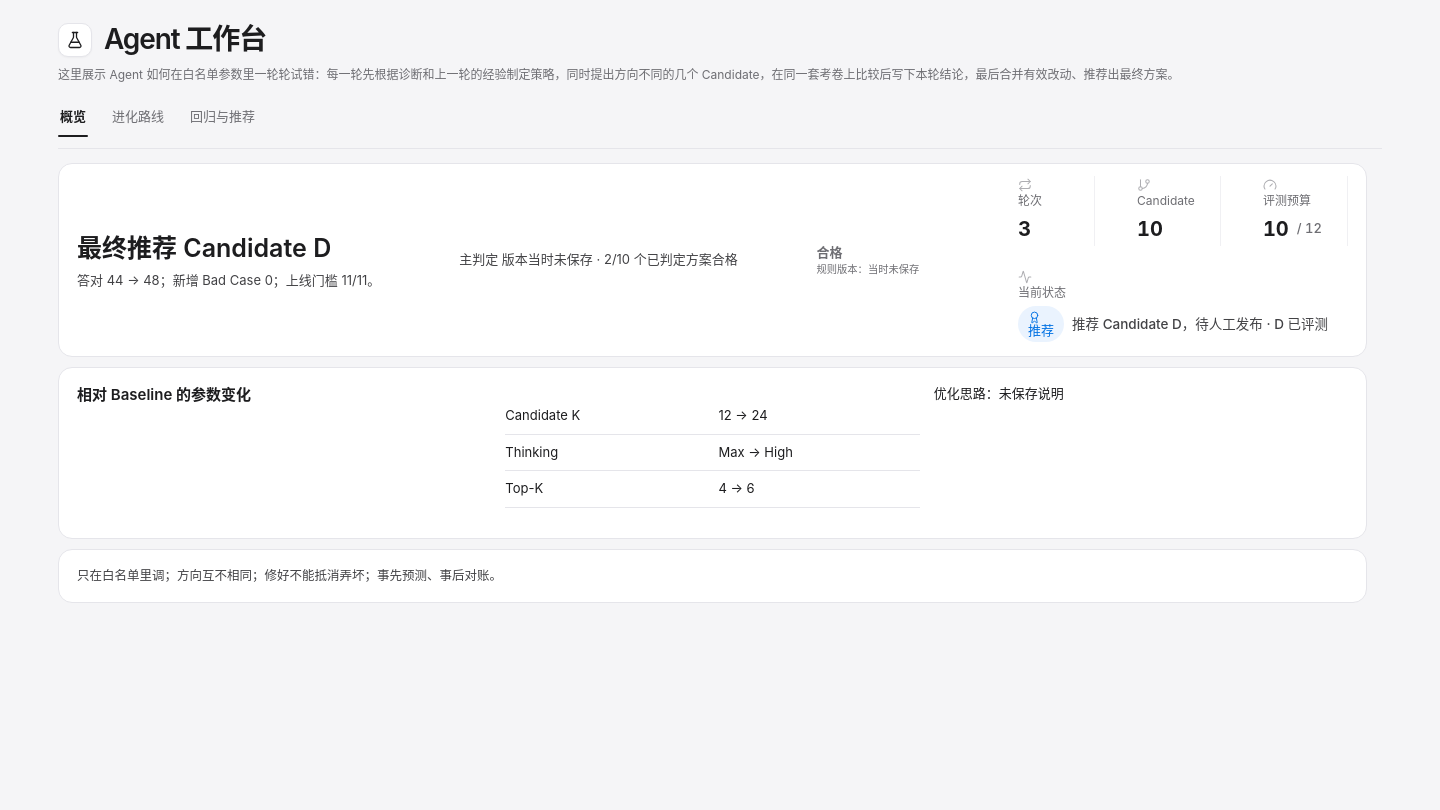
Scenario: connects all round cards to the existing drawer and migrates diagnosis to Baseline
The width and height of the screenshot is (1440, 810).
Later steps or results of the test are not shown.
expect the element with class "agent-overview" is shown: met, box [58,163,1367,603]
expect the element with class "ui-agent-stats" shows "10": met, box [1137,217,1163,241]
Click the button "进化路线": (138, 116) [110,96,166,136]
(page scrolled)
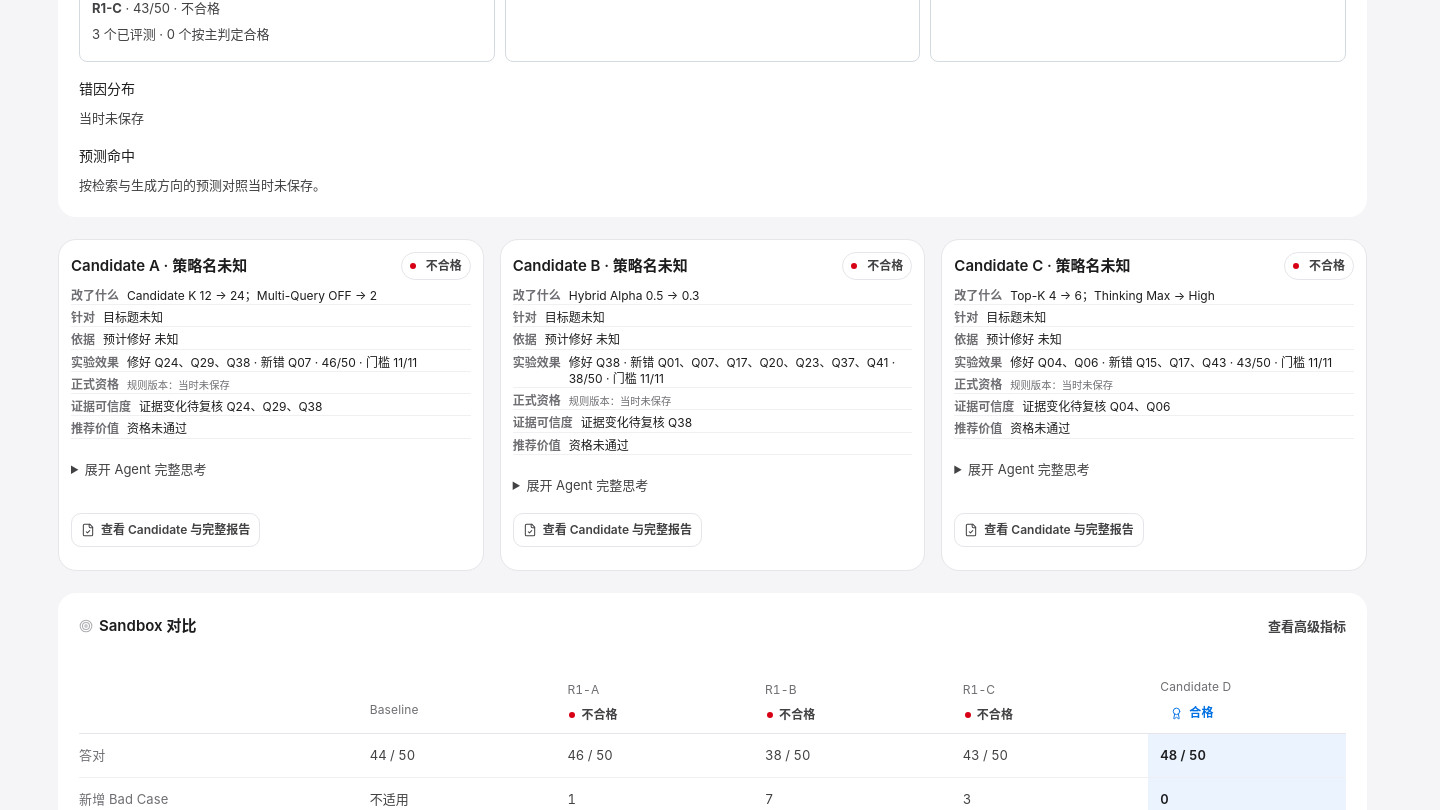
expect the number of elements with class "ui-evo-card" is 3: met
Click the element with class "ui-evo-card" that starts with "Candidate A · 策略名未知": (271, 405) [58,239,484,571]
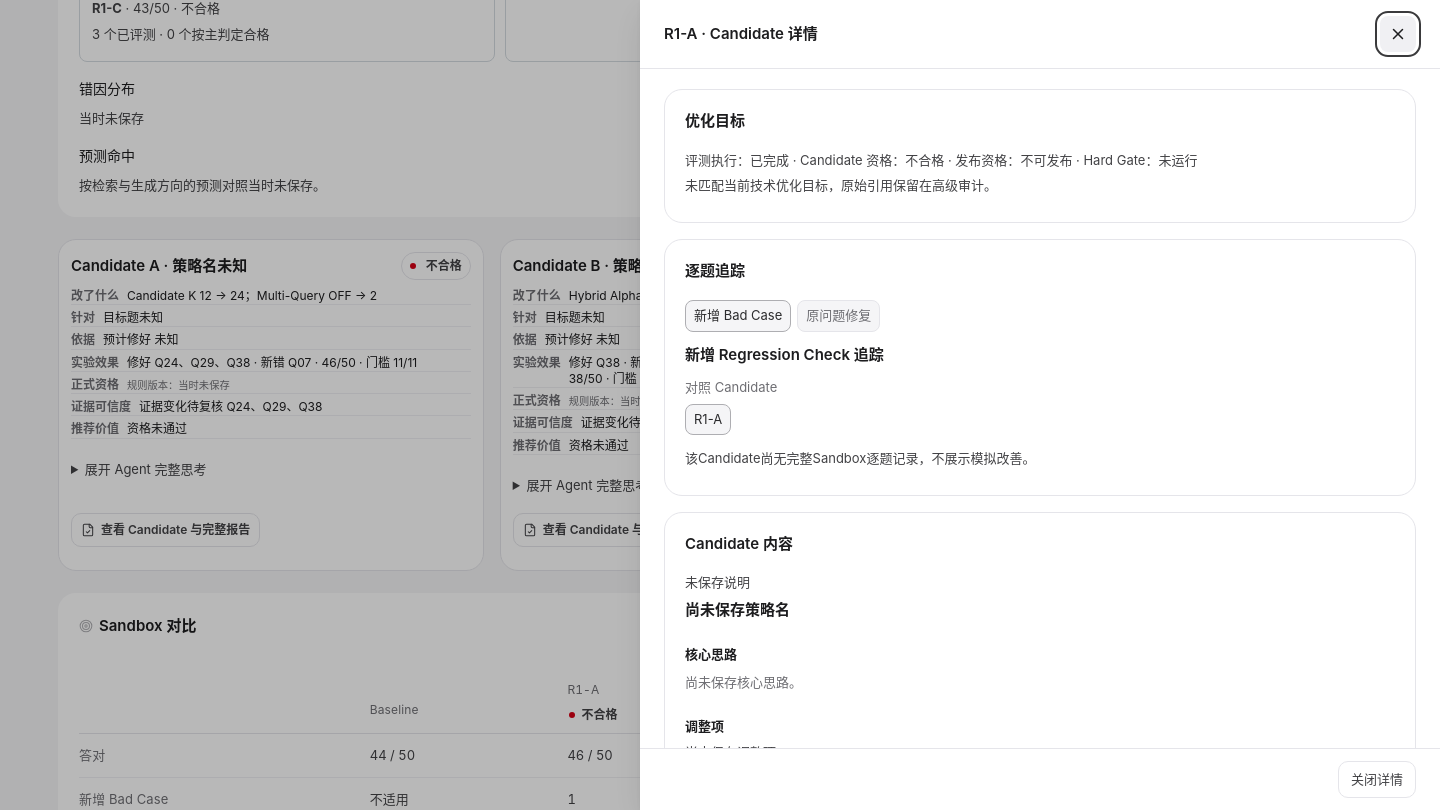
expect the dialog shows "Candidate 详情": met, box [664,24,818,43]
